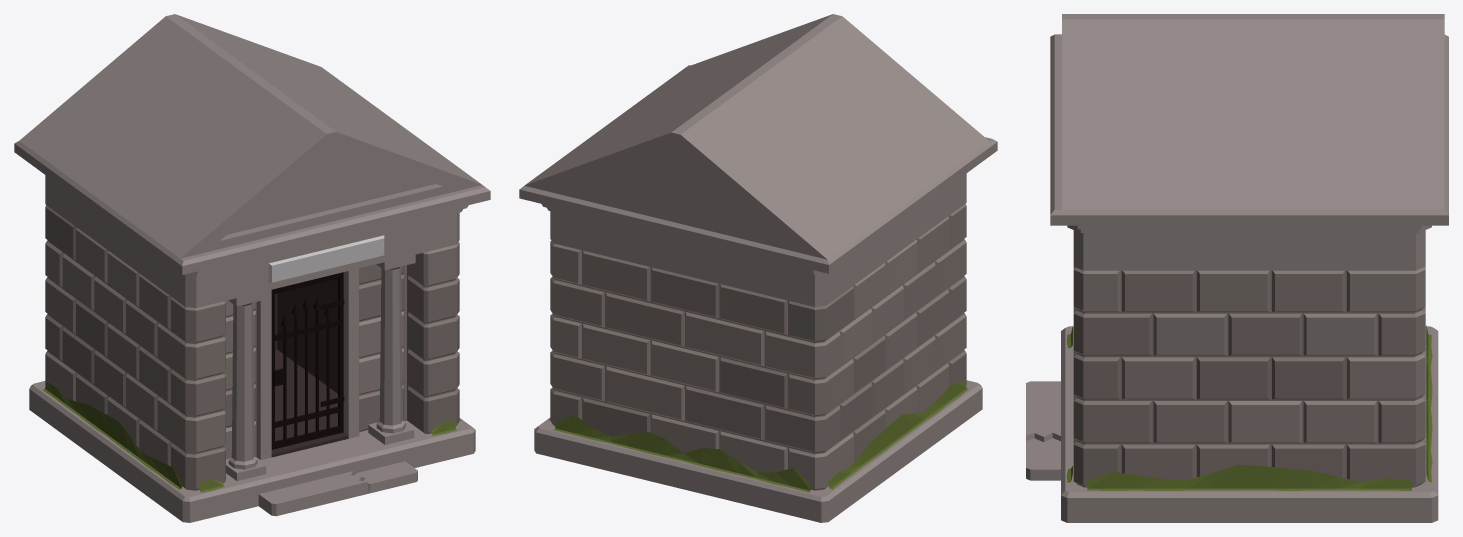
File: family-mausoleum-c2a009.glb
3 renders of one model, left to right at view 1: azimuth 30°, elevation 25°; view 2: azimuth 150°, elevation 25°; view 3: azimuth 270°, elevation 25°, orthographic. The views are drawn at different scales.
Visible parts, largest first — view 1: mausoleum-body, gate-leaf; view 2: mausoleum-body; view 3: mausoleum-body.
Part boxes in pixels (left/top/right/bottom): mausoleum-body: left=14, top=14, right=490, bottom=522; gate-leaf: left=271, top=272, right=344, bottom=449; mausoleum-body: left=519, top=14, right=997, bottom=522; mausoleum-body: left=1026, top=14, right=1448, bottom=522.
Bounding box in the file's own units: 4 × 4.4 × 4.
